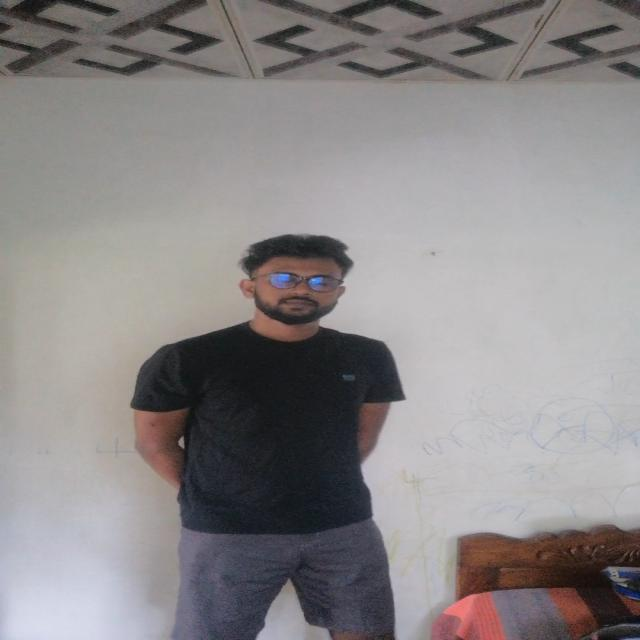Person: (138, 230, 432, 640)
